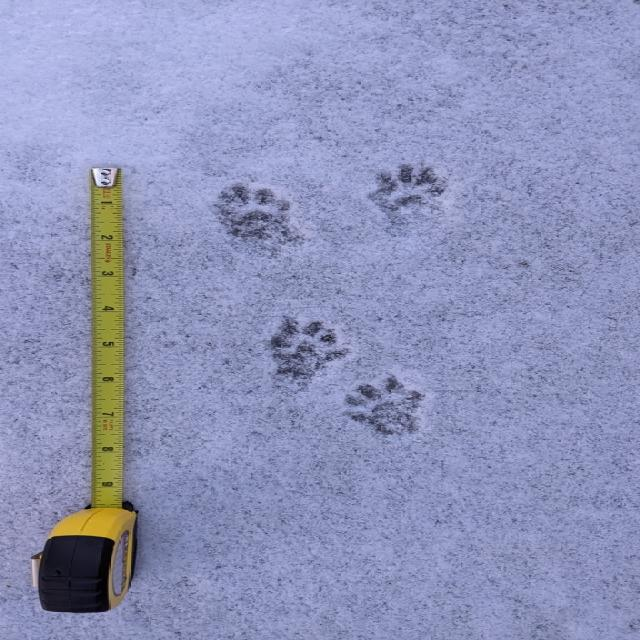mustelid: (368, 162, 456, 232), (211, 181, 300, 247), (265, 317, 350, 384), (346, 376, 435, 438)
